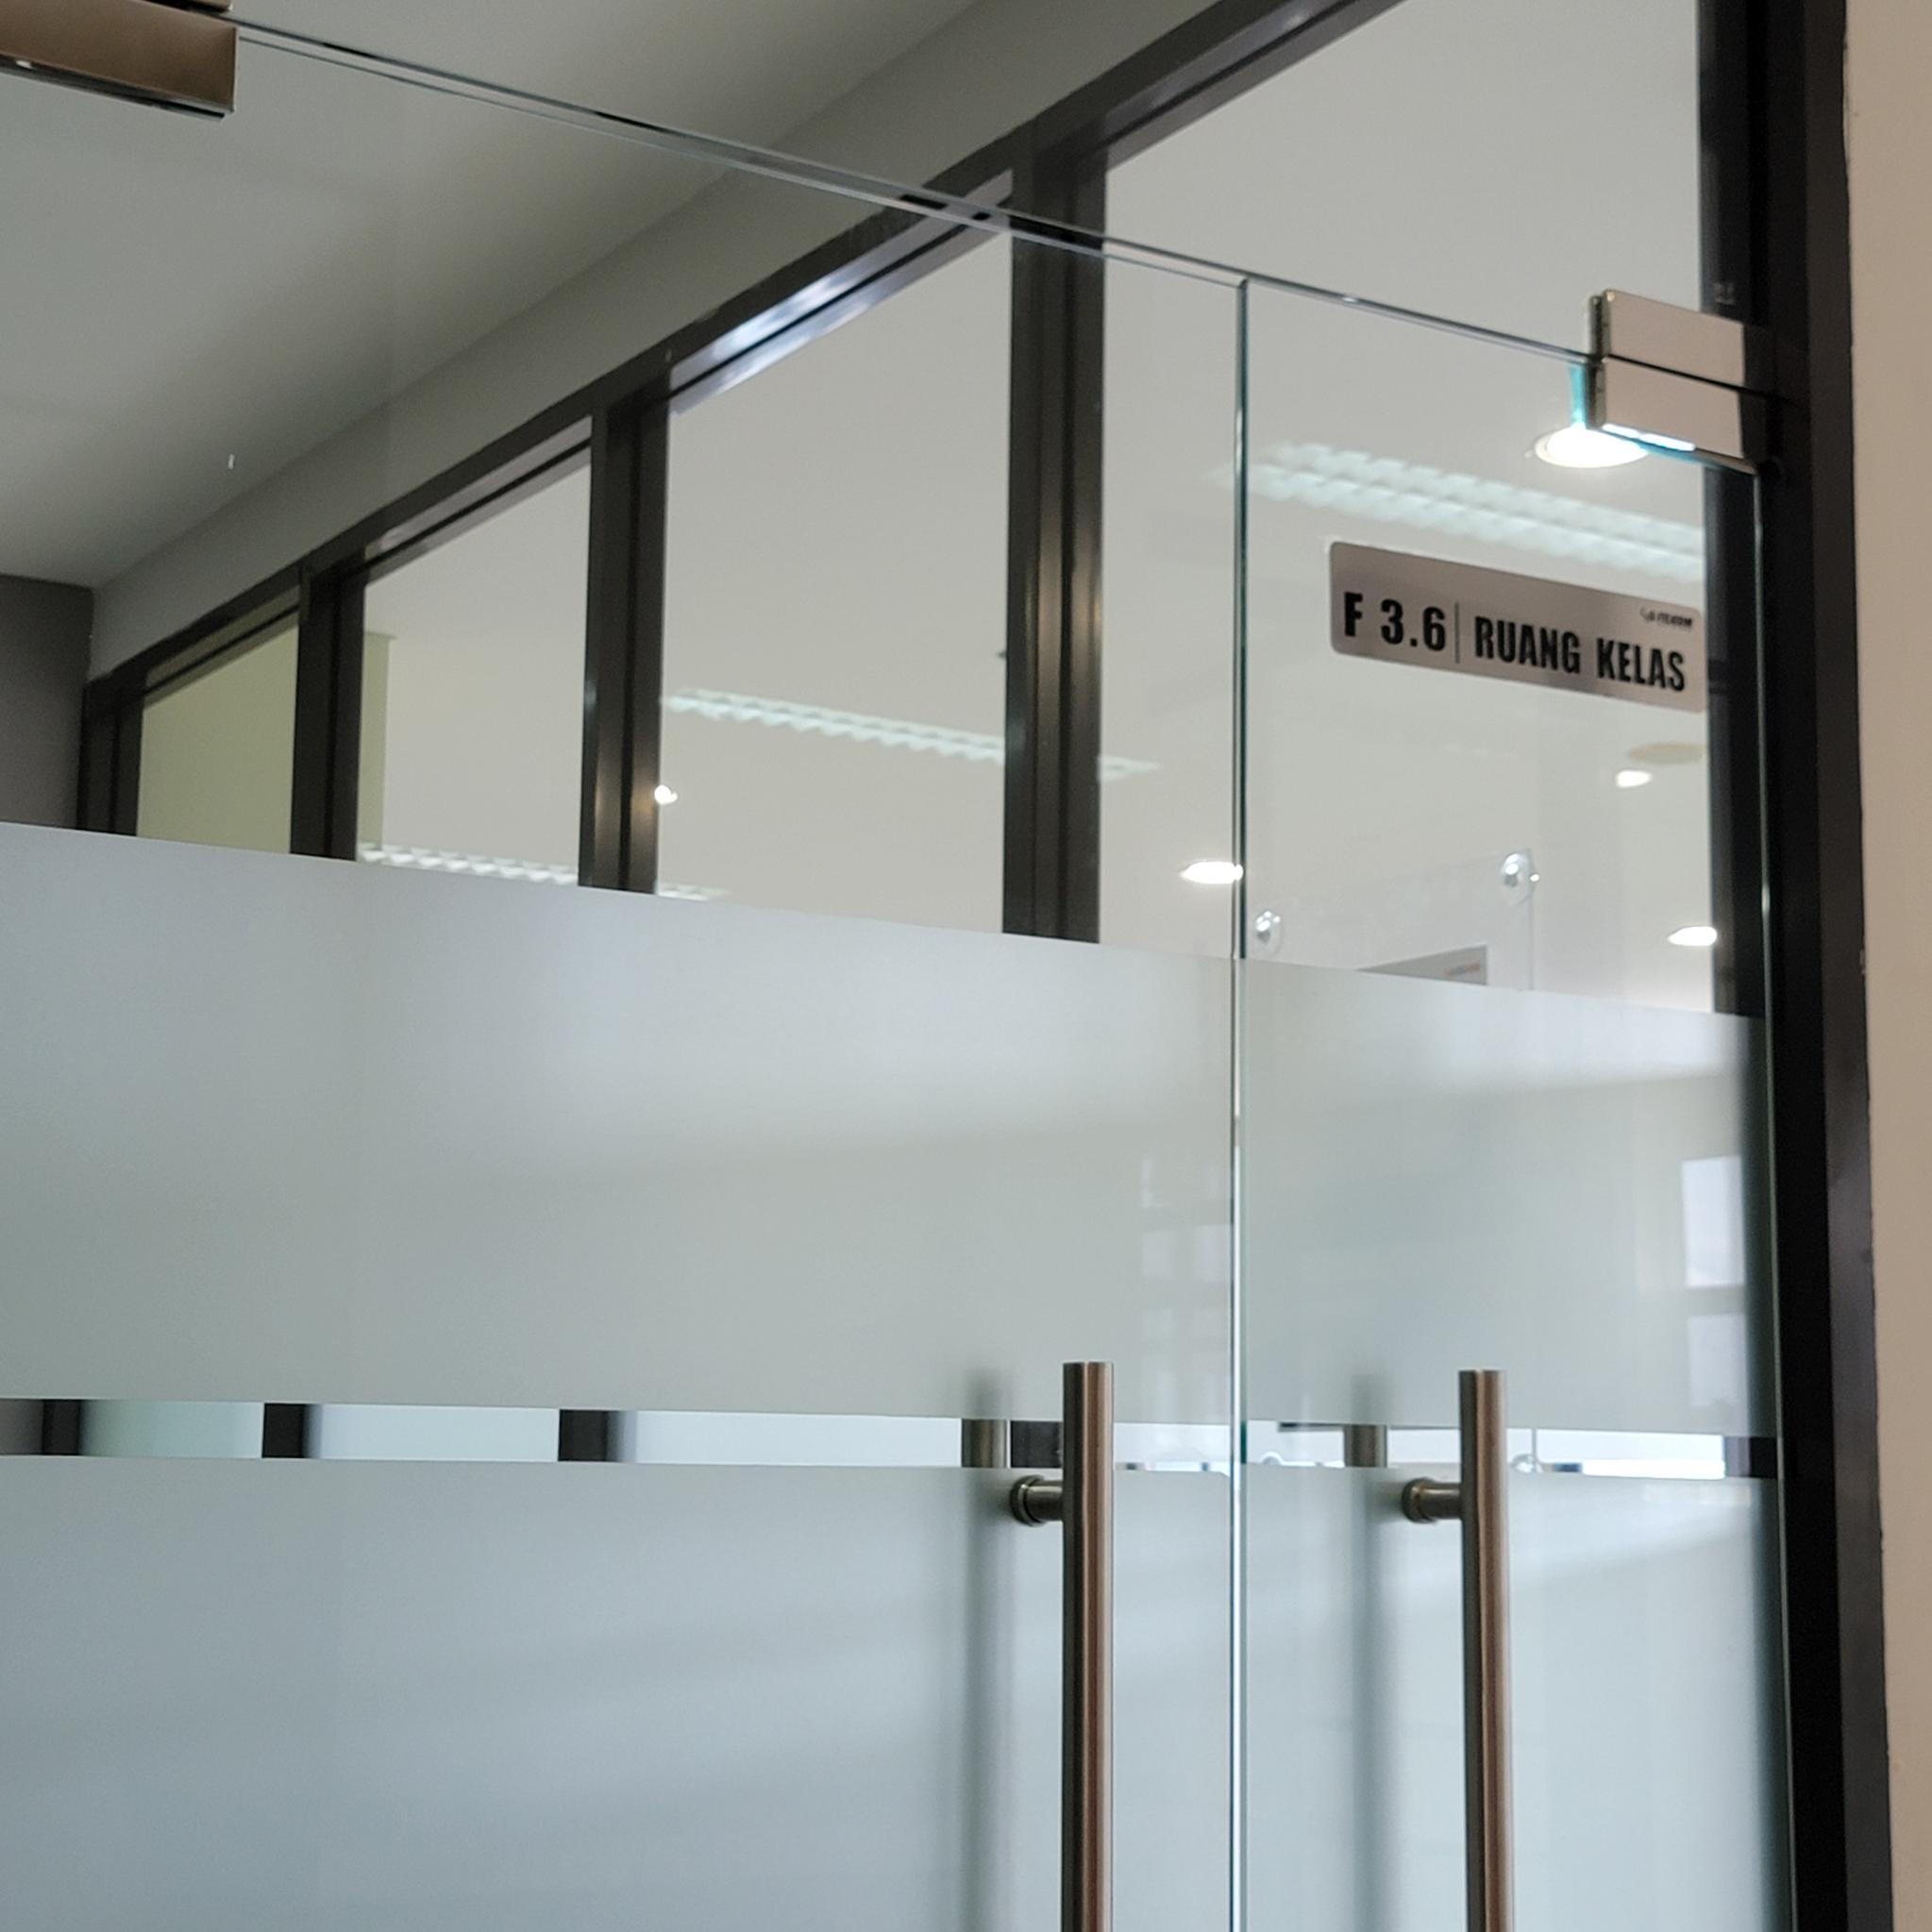plate: (1329, 541, 1709, 717)
